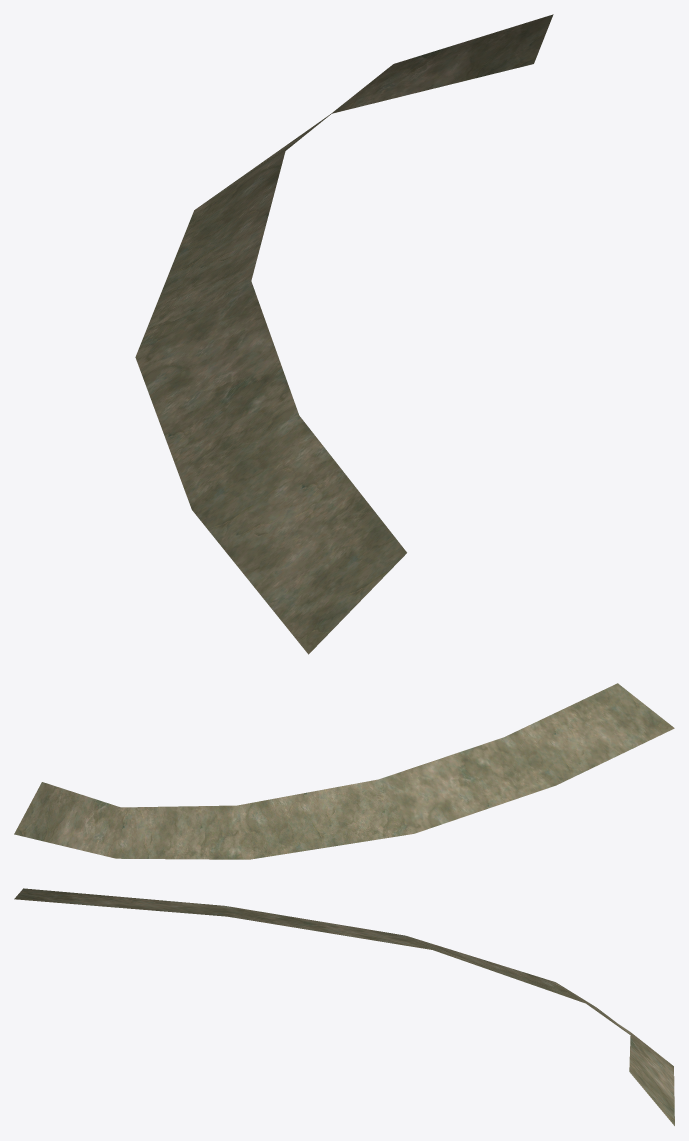
File: OVERHILL_A_01_OBJECT184.fbx
The picture shows the model from 3 angles, top to bottom: view 1: azimuth 30°, elevation 25°; view 2: azimuth 150°, elevation 25°; view 3: azimuth 270°, elevation 25°; orthographic projection. The views are drawn at different scales.
Parts seen in each view (by area): view 1: OVERHILL_A_01_OBJECT184; view 2: OVERHILL_A_01_OBJECT184; view 3: OVERHILL_A_01_OBJECT184.
Part boxes in pixels (x1,y1,x2,y2): OVERHILL_A_01_OBJECT184: (135,14,553,654); OVERHILL_A_01_OBJECT184: (14,683,674,859); OVERHILL_A_01_OBJECT184: (14,888,674,1125).
Size of the model in its own units: 234198 by 23833 by 287481.
1 material, 1 textured.
